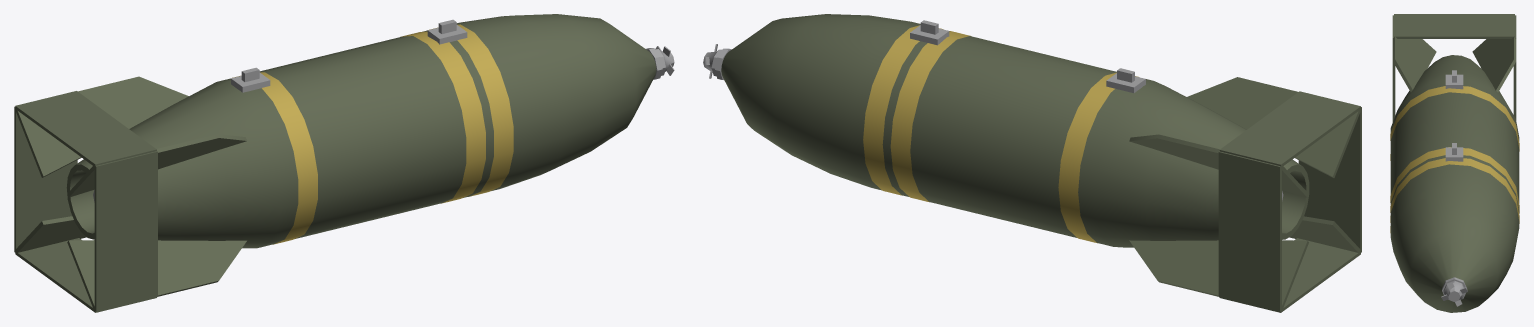
The model's file is bombdrop_evo.glb.
3 renders of one model, left to right at view 1: azimuth 30°, elevation 25°; view 2: azimuth 150°, elevation 25°; view 3: azimuth 270°, elevation 25°, orthographic. The views are drawn at different scales.
Visible parts, largest first — view 1: bombdrop_evo; view 2: bombdrop_evo; view 3: bombdrop_evo.
Boxes of the visible parts, box(x1,y1,x2,y2) form: bombdrop_evo: box(14, 14, 674, 312); bombdrop_evo: box(703, 14, 1361, 312); bombdrop_evo: box(1390, 14, 1519, 312).
Bounding box in the file's own units: 1 × 0.2625 × 0.2411.
